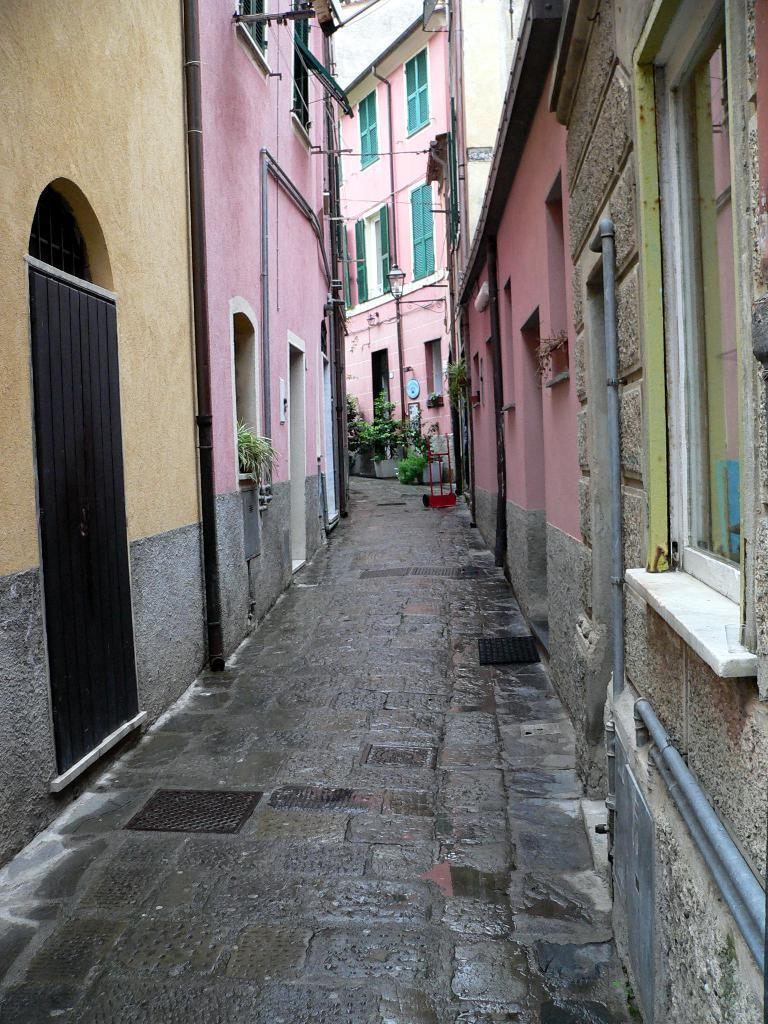door: (30, 276, 122, 722)
